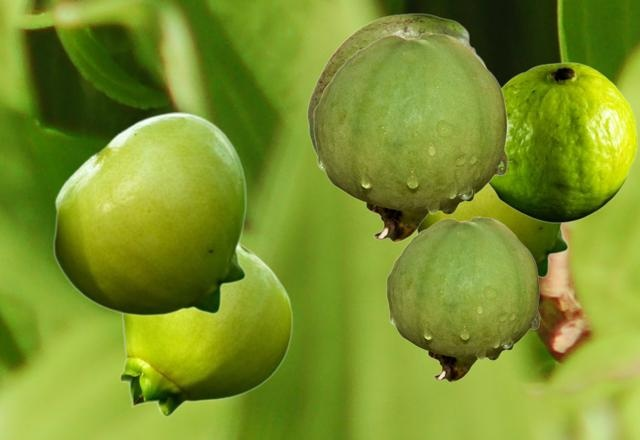guava: (313, 32, 507, 241), (52, 111, 246, 315), (119, 242, 292, 416), (306, 13, 487, 156), (386, 216, 539, 381), (488, 62, 636, 222), (416, 185, 568, 278)
